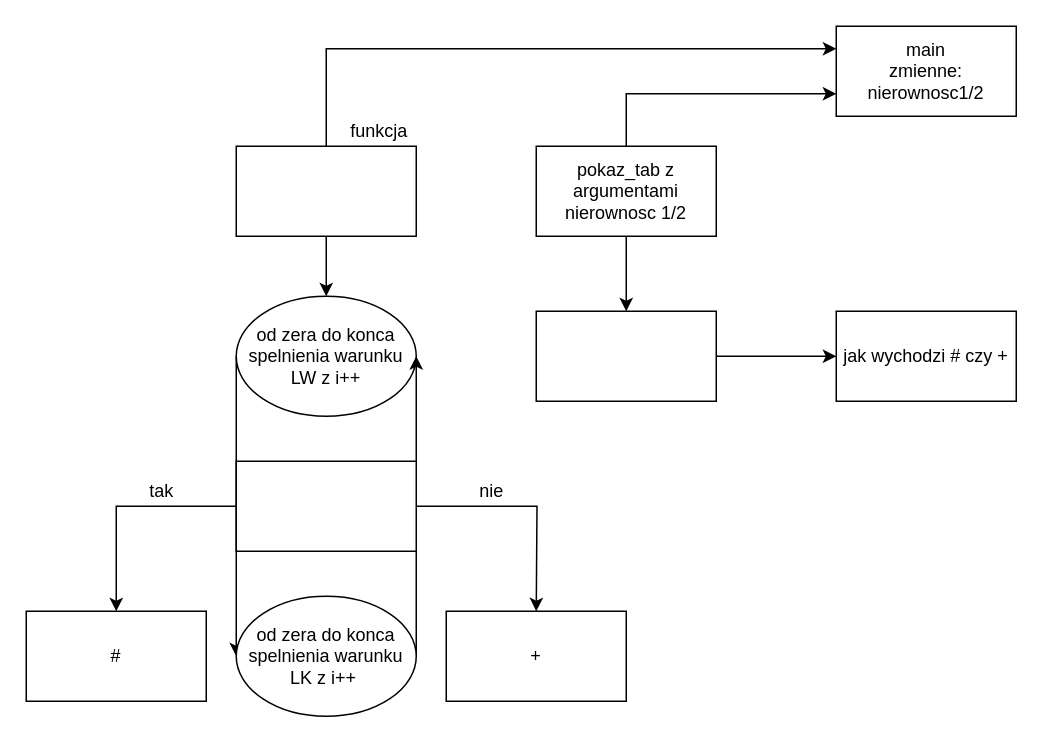
The diagram is 1043 pixels wide and 743 high, and some of its shapes have lost their labels. The centre of each missing label's shape, as x and y in pixels:
"jeżeli nierownosc1 i nierownosc2" belongs at (325,505).
"pokazanie nierownosci1 i nierowsnoc2" belongs at (625,355).
"rozwiazanie_tab" belongs at (325,190).
